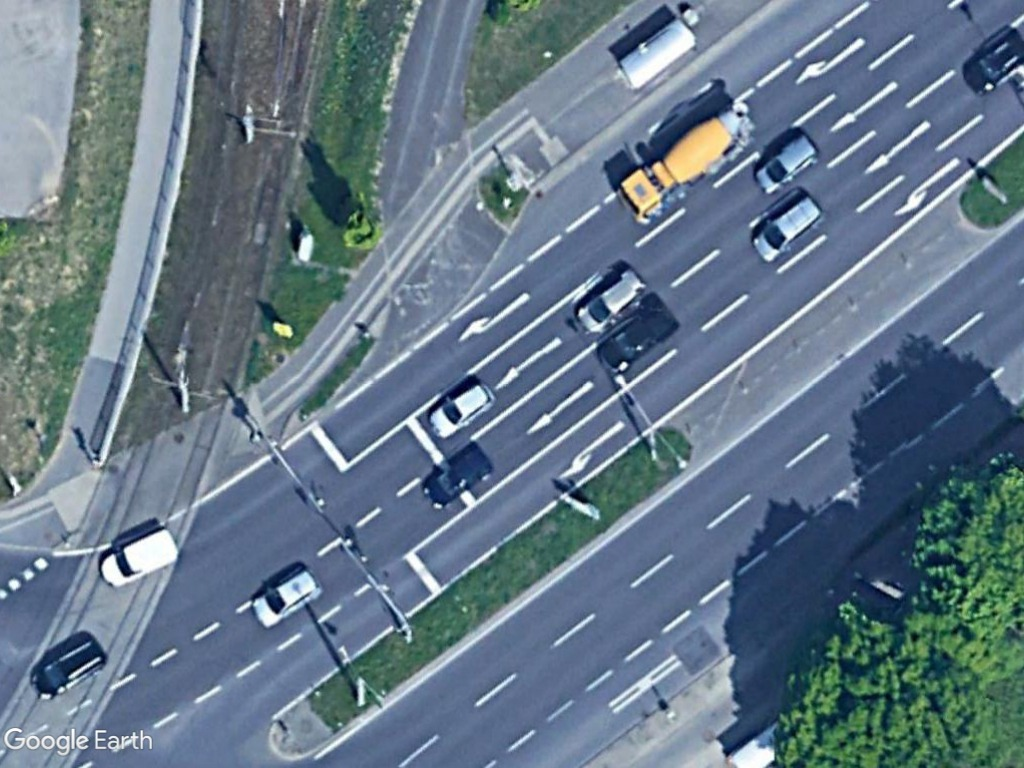car: (592, 302, 679, 375), (26, 634, 110, 704), (748, 191, 825, 264), (417, 441, 494, 512), (572, 266, 648, 336), (248, 563, 323, 631), (752, 128, 824, 197), (425, 377, 498, 441)
van: (96, 524, 187, 593)
